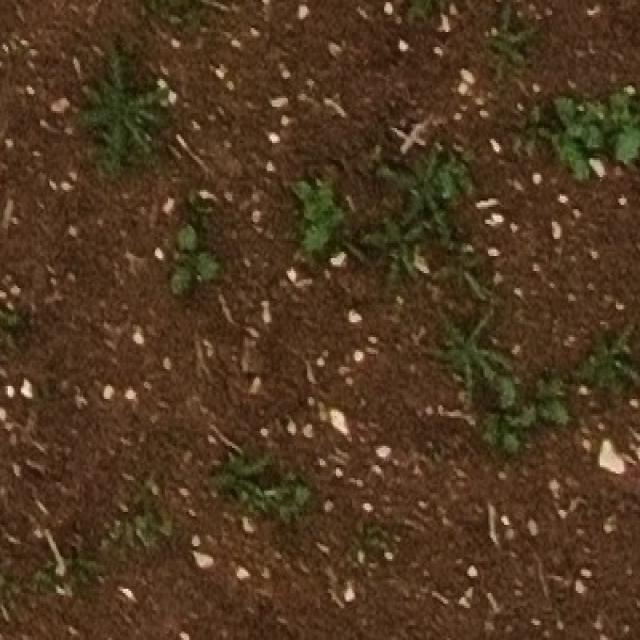cirse: (73, 34, 165, 180), (73, 34, 167, 174), (72, 40, 165, 181), (366, 211, 448, 303), (353, 215, 433, 309), (401, 143, 476, 235), (394, 158, 468, 251), (345, 197, 420, 288), (200, 414, 270, 511), (385, 161, 456, 251), (558, 327, 618, 433), (209, 411, 276, 505), (215, 417, 281, 512), (424, 304, 492, 388), (484, 0, 550, 84), (557, 313, 613, 410), (492, 4, 558, 86), (454, 325, 516, 410), (473, 3, 538, 83), (452, 328, 514, 409), (598, 312, 640, 415)
